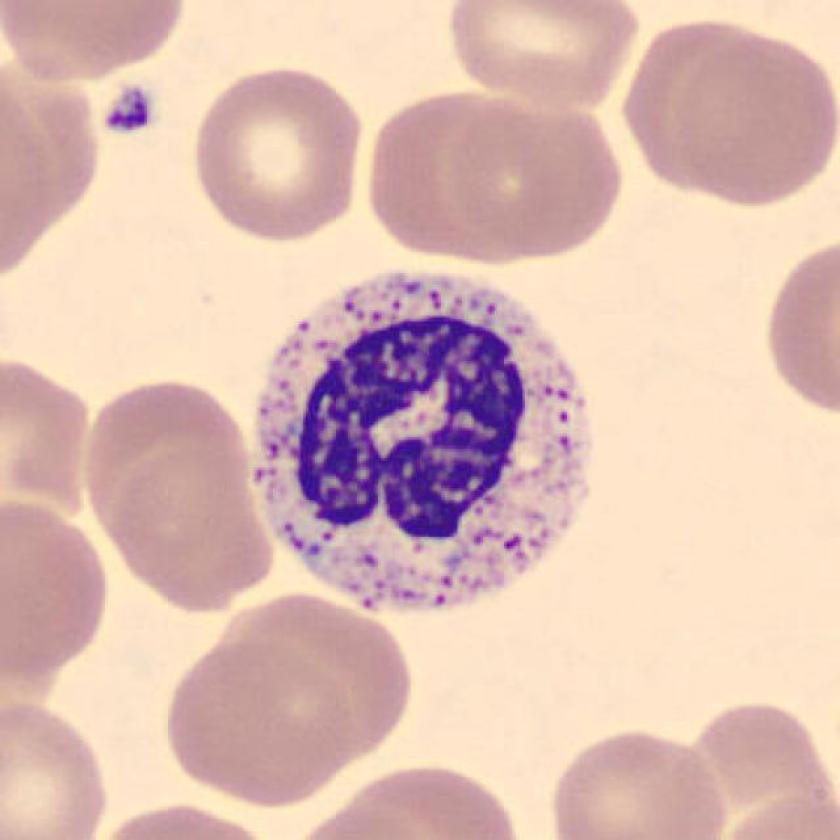neutrophil: (256, 270, 590, 610)
